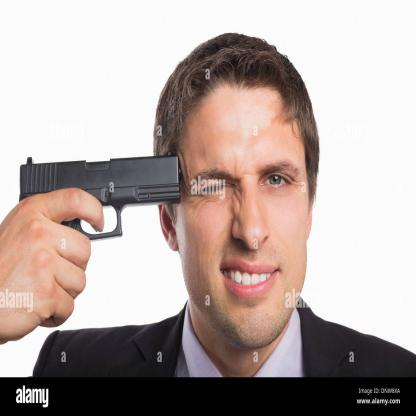handgun: (16, 159, 183, 233)
